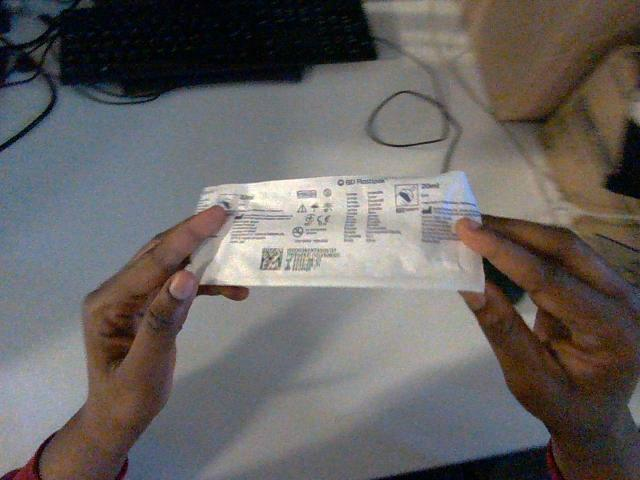syringe: (190, 172, 483, 290)
